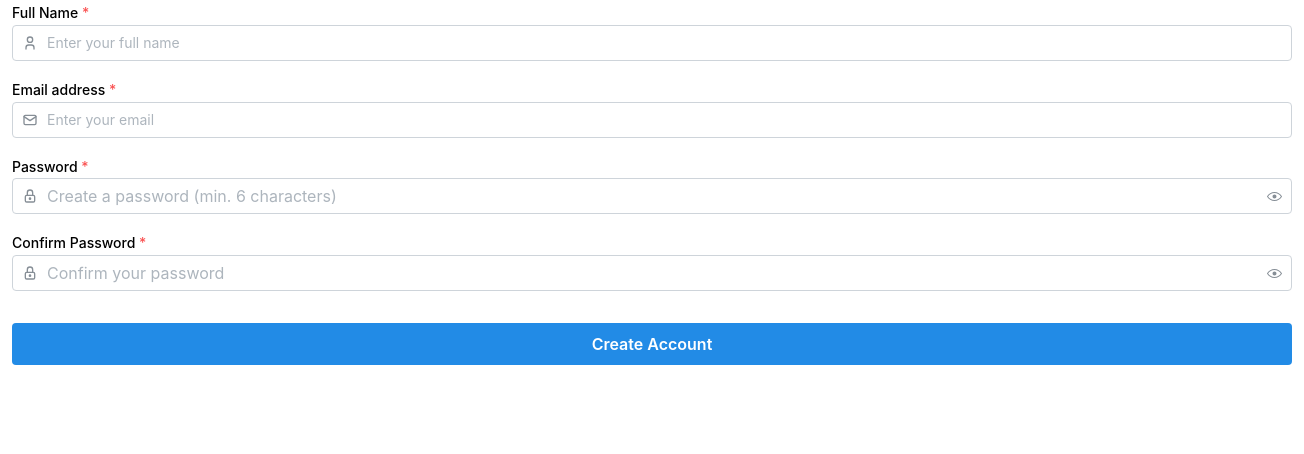
Test: SignUpForm Component › displays error message when signup fails
Type "John Doe" into the field with test id "signup-fullname-input" at (652, 43), box [12,25,1292,61]
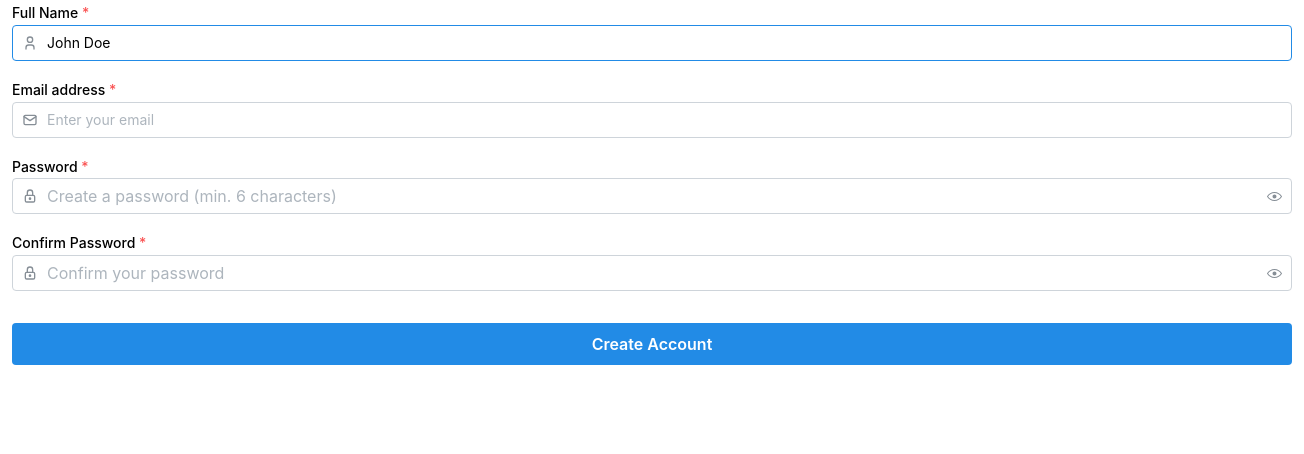
Type "test@example.com" into the field with test id "signup-email-input" at (652, 120), box [12,102,1292,138]
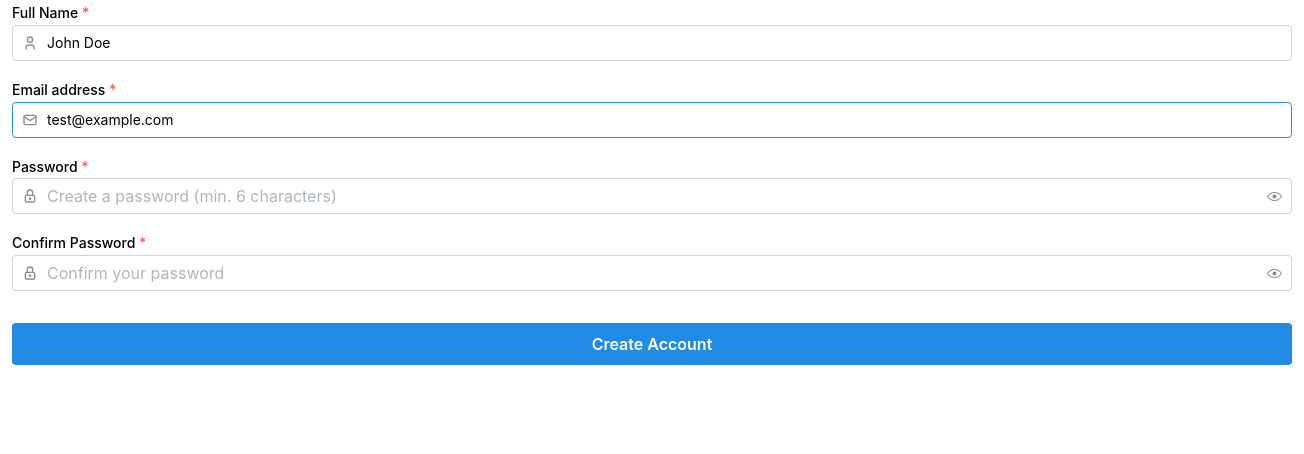
Type "password123" into the password field with test id "signup-password-input" at (652, 196), box [13,179,1291,213]
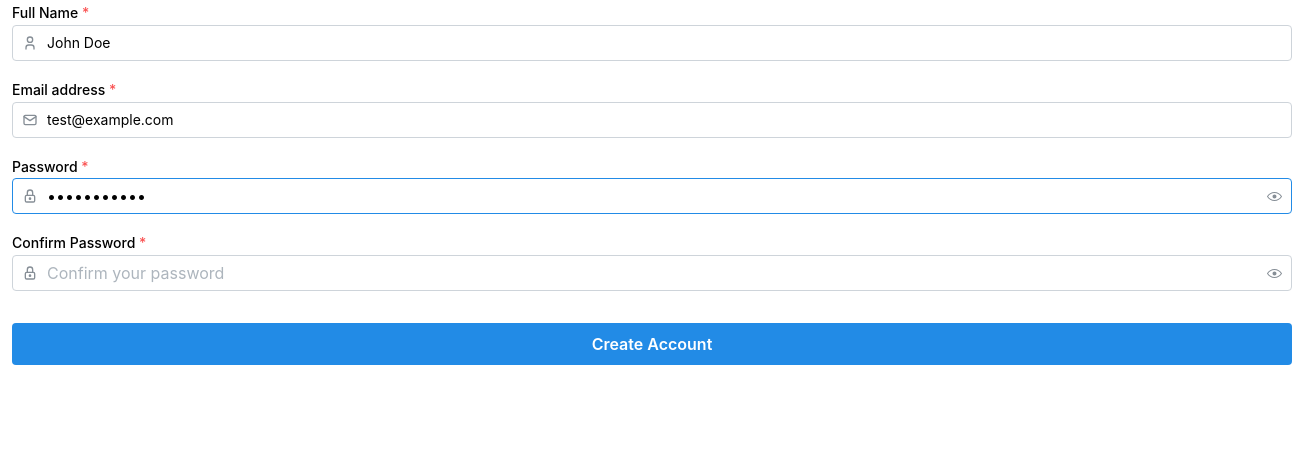
Type "password123" into the password field with test id "signup-confirm-password-input" at (652, 273), box [13,256,1291,290]
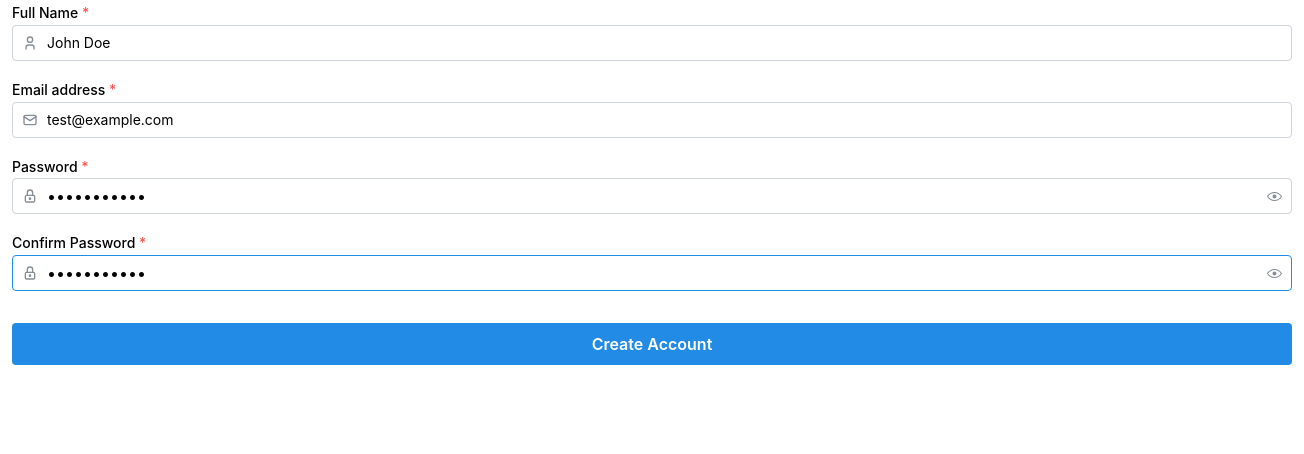
Click the button with test id "signup-submit-button" at (652, 344), box [12,323,1292,365]
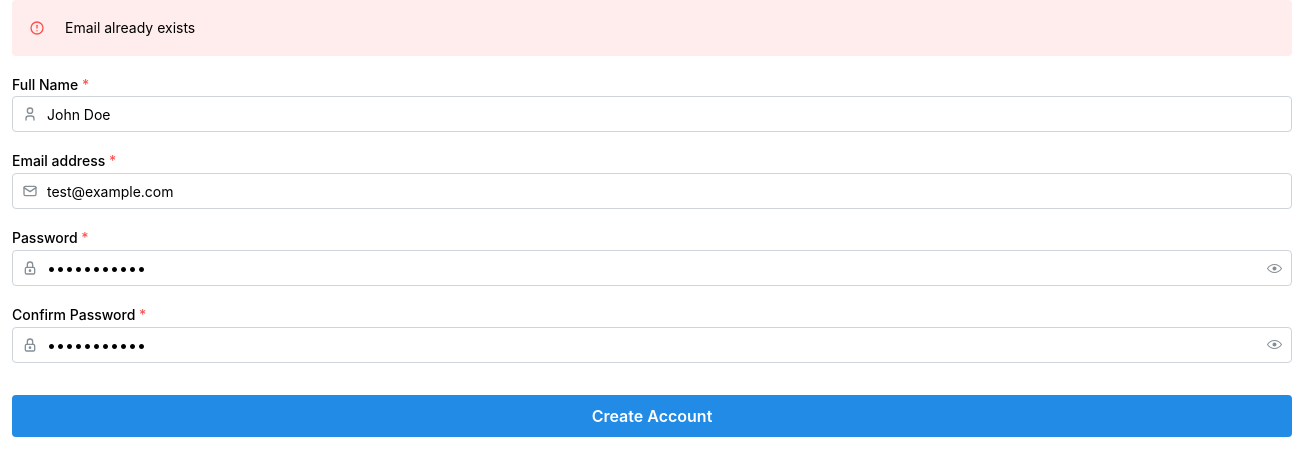
Expected: the text "Email already exists" is shown, [65,19,195,36]
